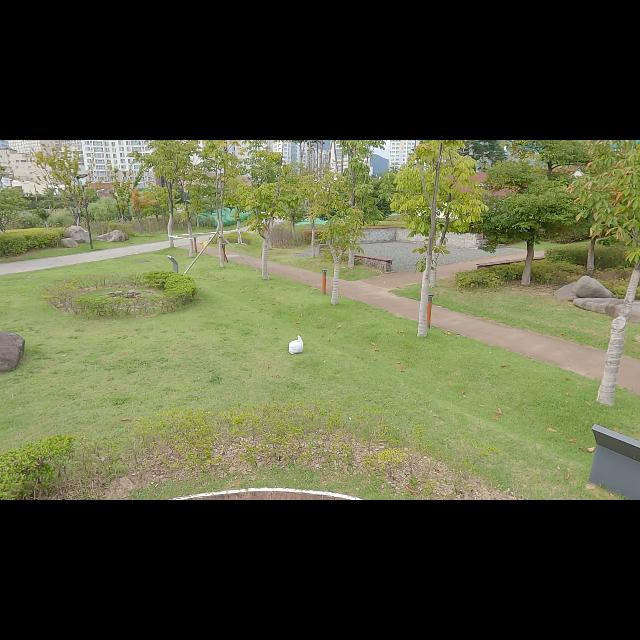trash: (282, 334, 306, 361)
